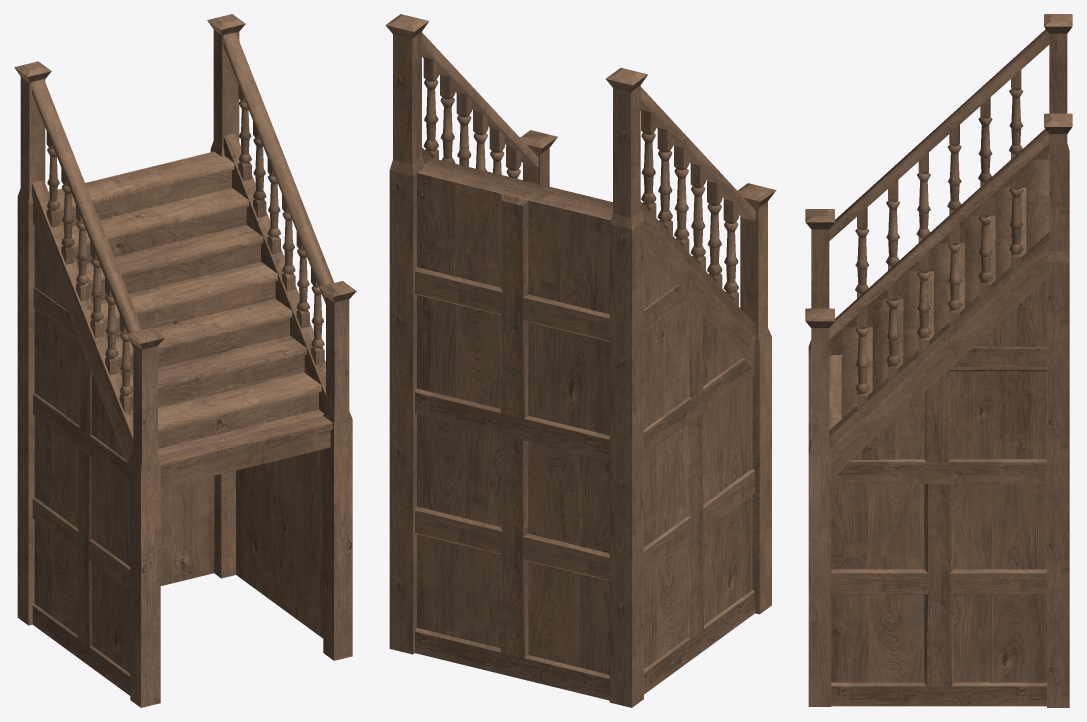
File: StairsInt2x4-1A.fbx
3 views of the same model, side by side, from view 1: azimuth 30°, elevation 25°; view 2: azimuth 150°, elevation 25°; view 3: azimuth 270°, elevation 25° (orthographic). The views are drawn at different scales.
Visible parts, largest first — view 1: StairsInt2x4-1A, StairsInt2x4-1A-LeftRailing, StairsInt2x4-1A-RightRailing; view 2: StairsInt2x4-1A, StairsInt2x4-1A-LeftRailing, StairsInt2x4-1A-RightRailing; view 3: StairsInt2x4-1A-RightRailing, StairsInt2x4-1A, StairsInt2x4-1A-LeftRailing.
Part boxes in pixels (box(x1,y1,x2,y2)): StairsInt2x4-1A: box(34, 151, 332, 673); StairsInt2x4-1A-LeftRailing: box(14, 61, 164, 707); StairsInt2x4-1A-RightRailing: box(207, 14, 356, 660); StairsInt2x4-1A: box(415, 158, 752, 700); StairsInt2x4-1A-LeftRailing: box(606, 68, 776, 707); StairsInt2x4-1A-RightRailing: box(385, 14, 557, 654); StairsInt2x4-1A-RightRailing: box(805, 113, 1072, 707); StairsInt2x4-1A: box(811, 159, 1049, 682); StairsInt2x4-1A-LeftRailing: box(805, 14, 1072, 445).
Bounding box in the file's own units: 217 × 525 × 217.
